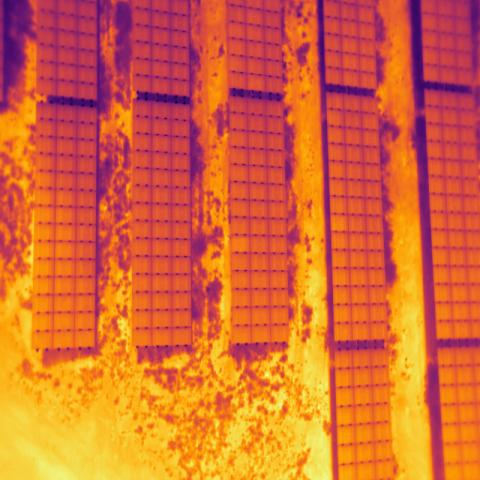fault: (232, 236, 250, 252)
